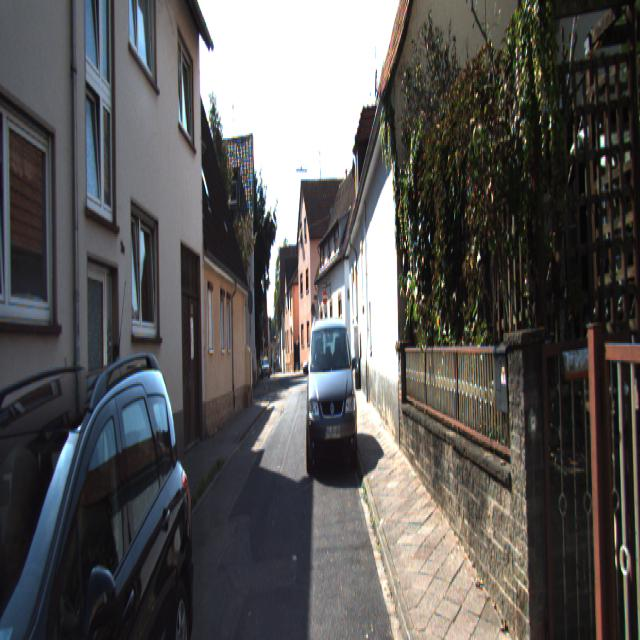Car: (0, 329, 198, 639), (306, 313, 360, 479)
